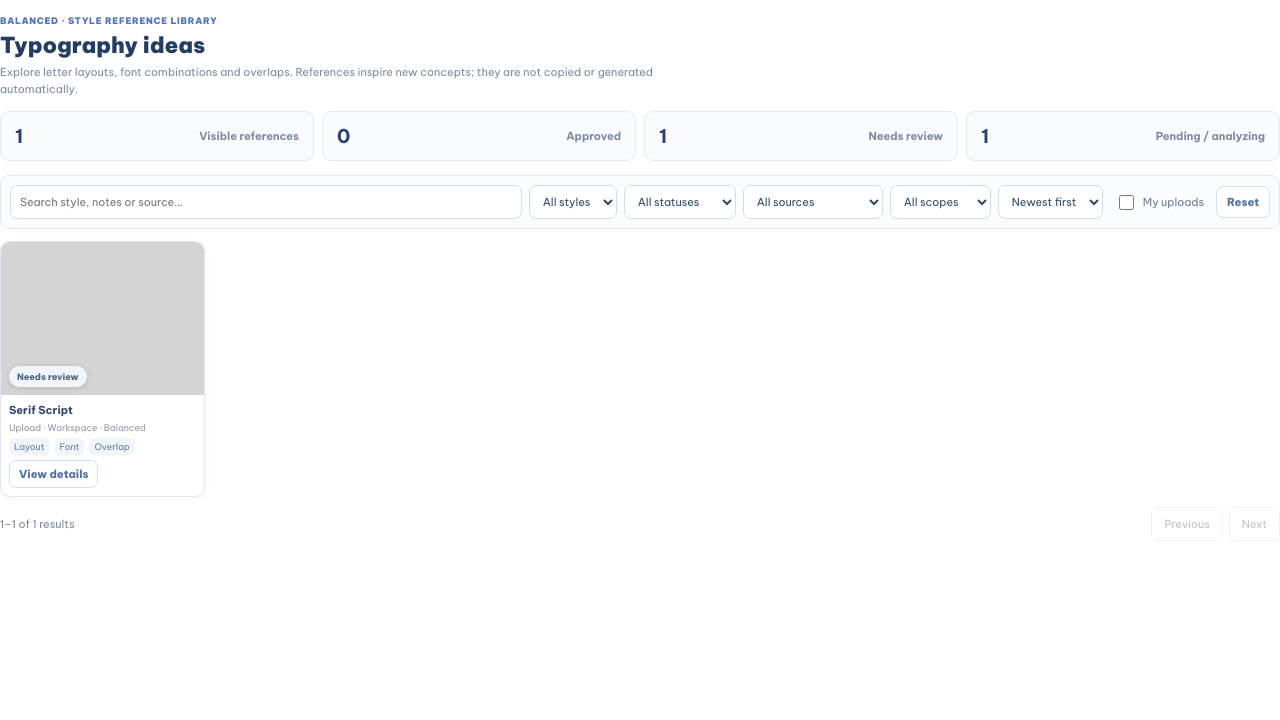
it: Typography Ideas Stage 1 navigation and gated library › keeps upload and review out of read-only Viewer roles
Click the button with class "typography-reference-image": (102, 319) left=1, top=242, right=204, bottom=395
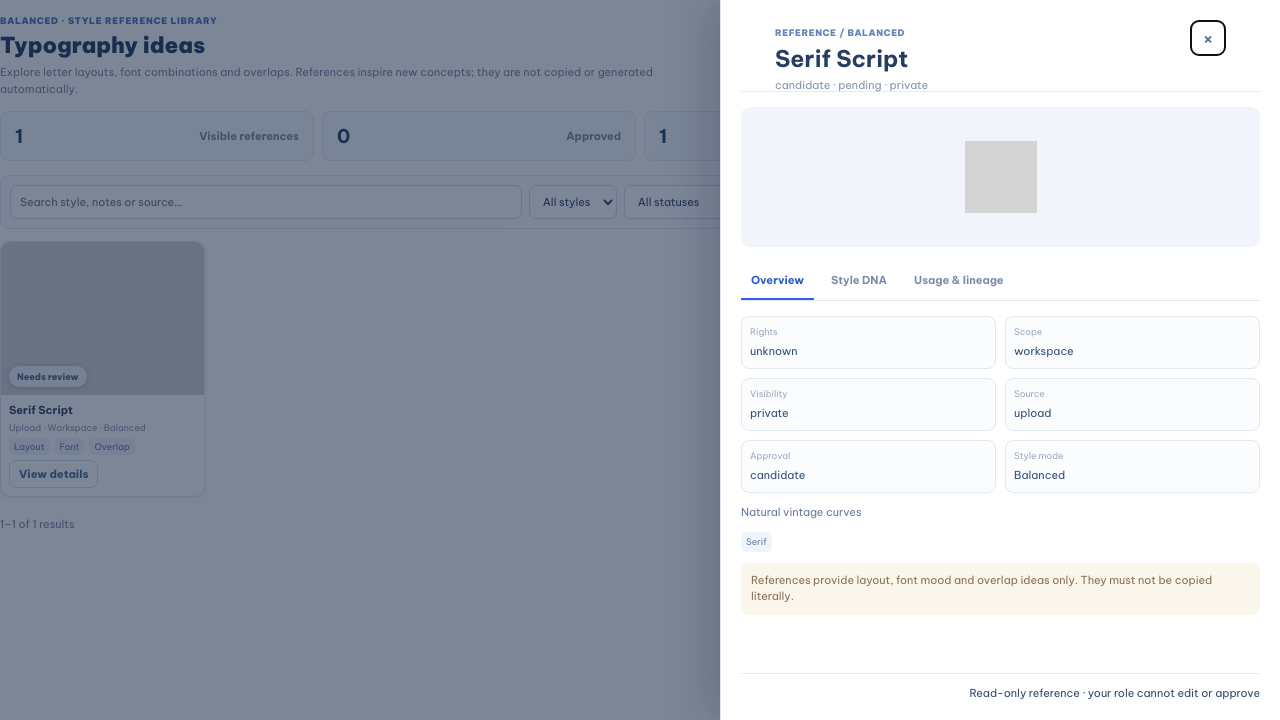
Expected: the dialog with test id "typography-detail-drawer" is shown, left=720, top=0, right=1279, bottom=719
Expected: the dialog with test id "typography-detail-drawer" shows "Read-only reference", left=970, top=686, right=1260, bottom=700
Expected: the button named "Close details" is shown
Click the button named "Close details": (1208, 38) left=1190, top=20, right=1226, bottom=56
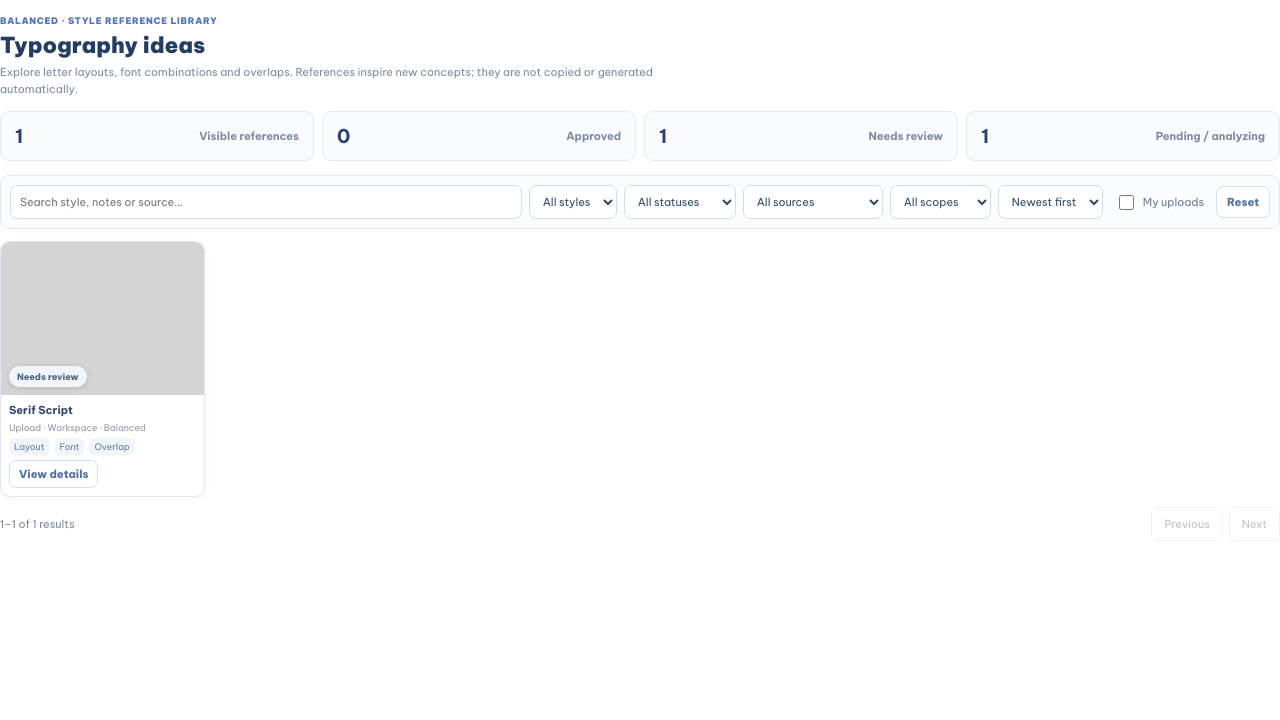
Expected: the dialog with test id "typography-detail-drawer" is gone
